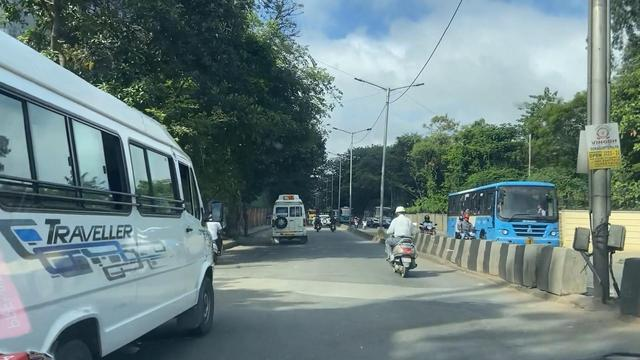HMV: (0, 33, 217, 357), (274, 193, 312, 245)
LMV: (388, 213, 420, 278)
